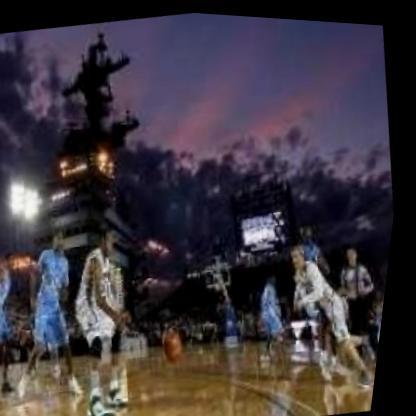basketball: (160, 318, 199, 365)
